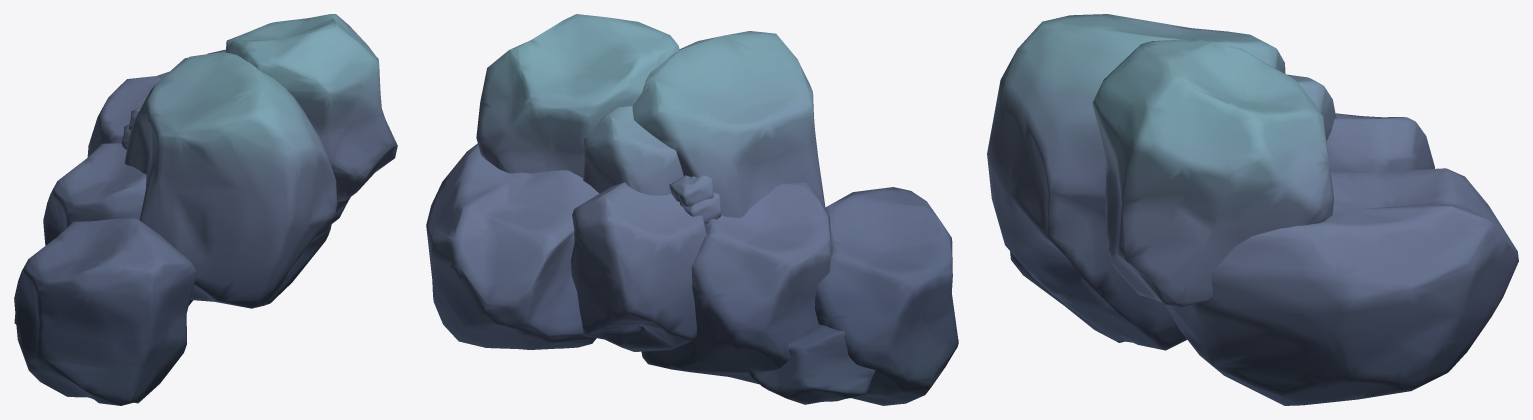
The model's file is SM_Hill_RockWall_01.fbx.
3 renders of one model, left to right at view 1: azimuth 30°, elevation 25°; view 2: azimuth 150°, elevation 25°; view 3: azimuth 270°, elevation 25°, orthographic. The views are drawn at different scales.
Visible parts, largest first — view 1: Stonewall.001; view 2: Stonewall.001; view 3: Stonewall.001.
Boxes of the visible parts, left/top/right/bottom form: Stonewall.001: left=14, top=14, right=397, bottom=405; Stonewall.001: left=426, top=14, right=958, bottom=405; Stonewall.001: left=987, top=14, right=1518, bottom=405.
Size of the model in its own units: 1730 by 1303 by 1559.
Materials: 1 (1 with a texture image).
